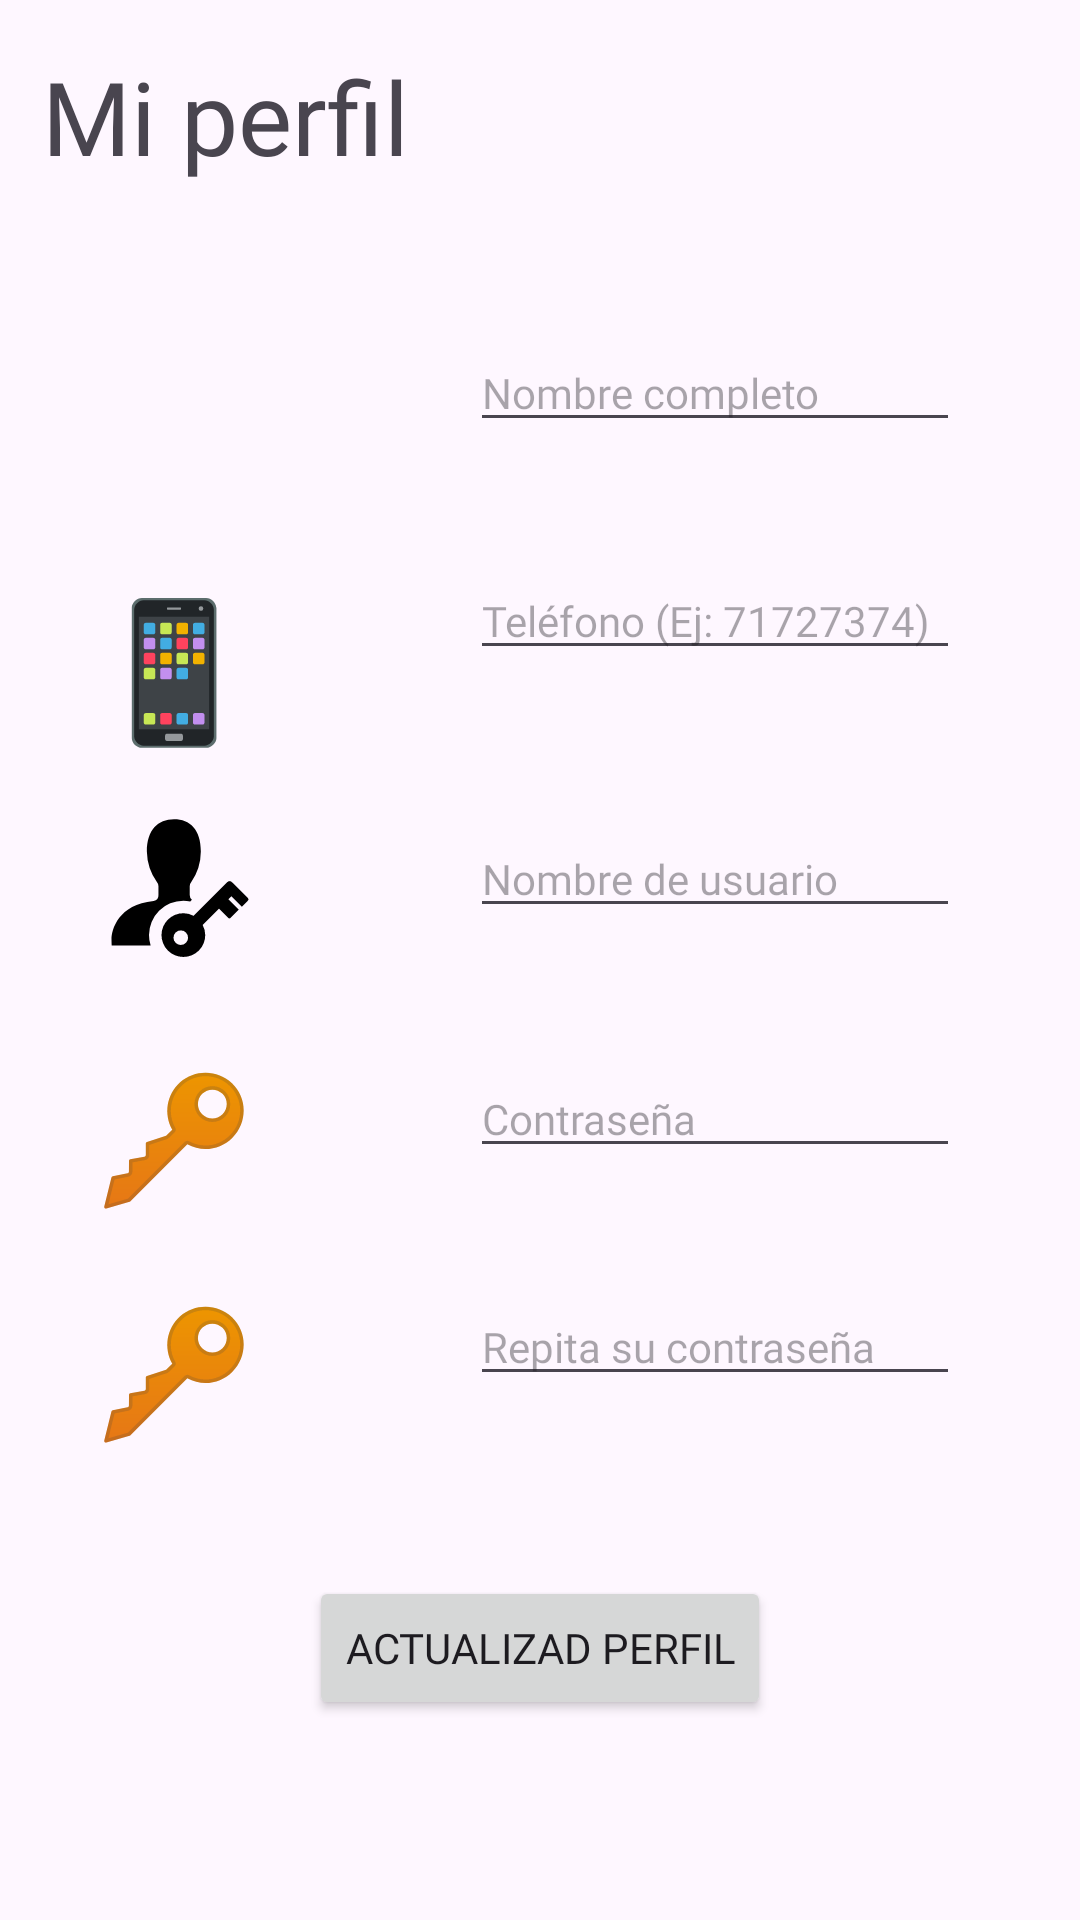

Named icons in this screenshot (1080x1920) and their centers, point (x, y):
key: point (174, 1140), point (174, 1374)
login: point (180, 888)
mobile phone: point (174, 673)
